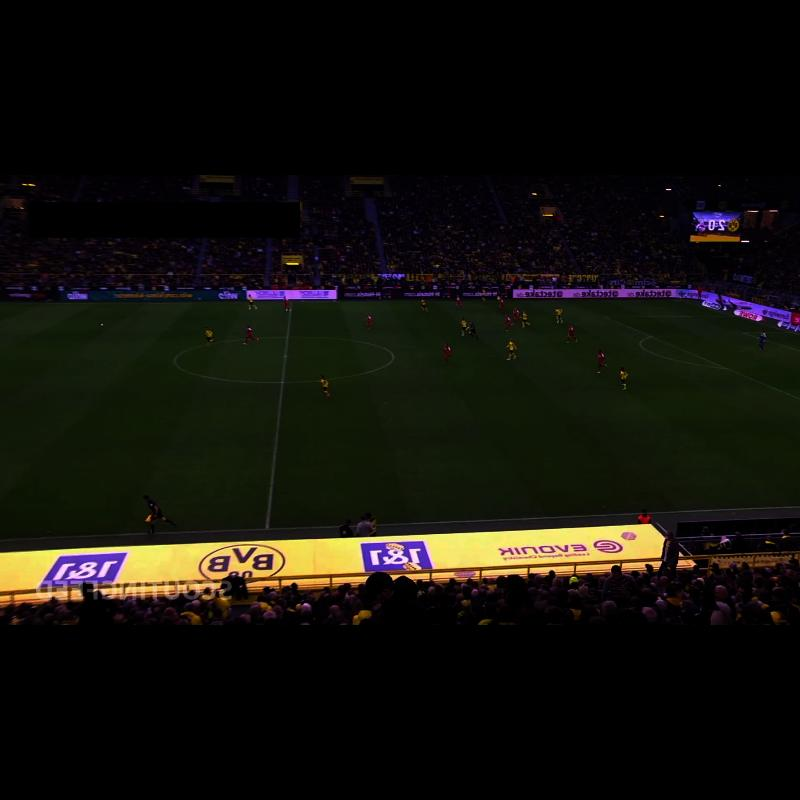cross_recipient_zone: (605, 315, 800, 400)
crossing_player_zone: (509, 300, 732, 317), (753, 433, 800, 471), (0, 302, 63, 323)
pitch: (0, 300, 800, 540)
